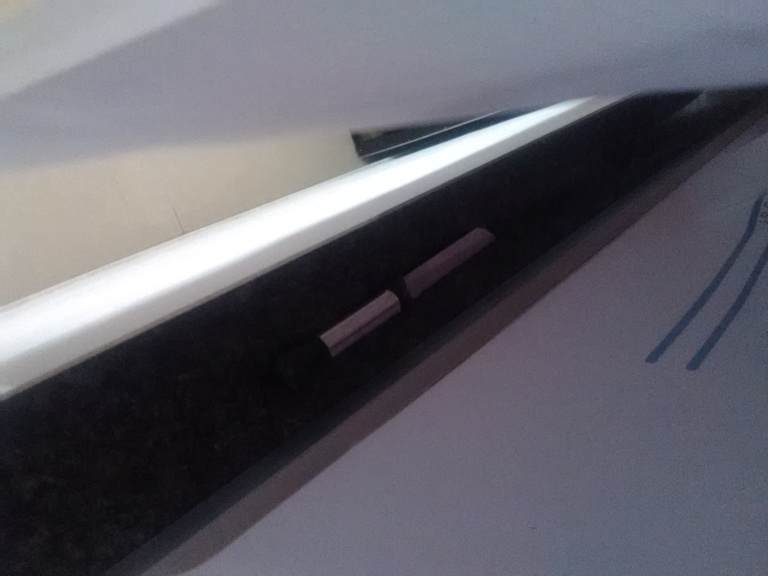knife: (300, 227, 496, 375)
